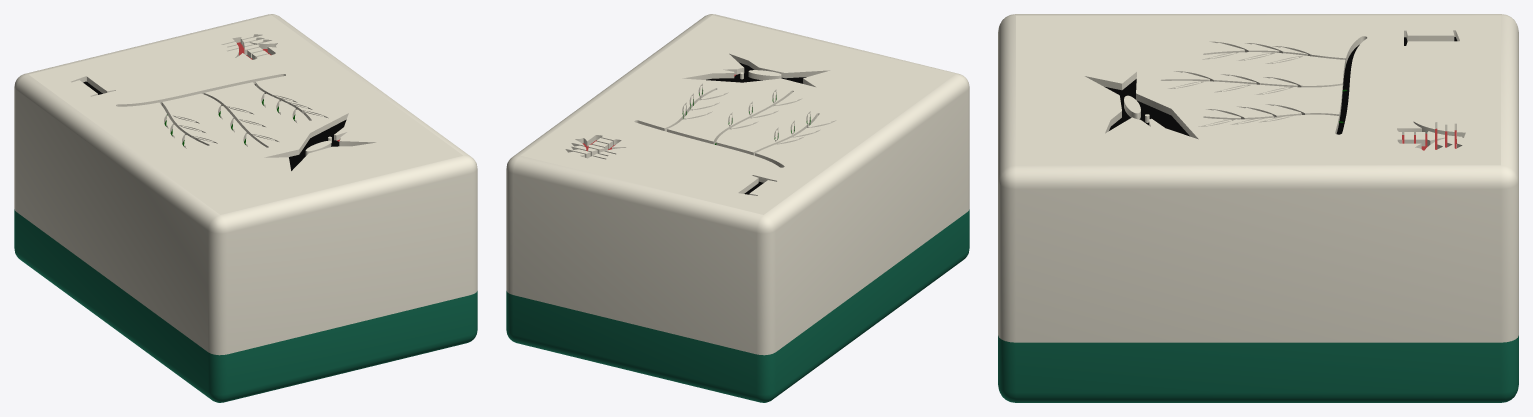
Rendered from Season1_Spring.glb.
3 views of the same model, side by side, from view 1: azimuth 30°, elevation 25°; view 2: azimuth 150°, elevation 25°; view 3: azimuth 270°, elevation 25° (orthographic). The views are drawn at different scales.
Visible parts, largest first — view 1: Season1_Spring_body, Season1_Spring_inset; view 2: Season1_Spring_body, Season1_Spring_inset; view 3: Season1_Spring_body, Season1_Spring_inset.
Boxes of the visible parts, x1,y1,x2,y2 form: Season1_Spring_body: [14, 14, 477, 402]; Season1_Spring_inset: [83, 42, 346, 170]; Season1_Spring_body: [506, 14, 969, 402]; Season1_Spring_inset: [582, 62, 810, 194]; Season1_Spring_body: [998, 14, 1518, 402]; Season1_Spring_inset: [1104, 37, 1457, 150].
Size of the model in its own units: 0.024 by 0.016 by 0.032.
